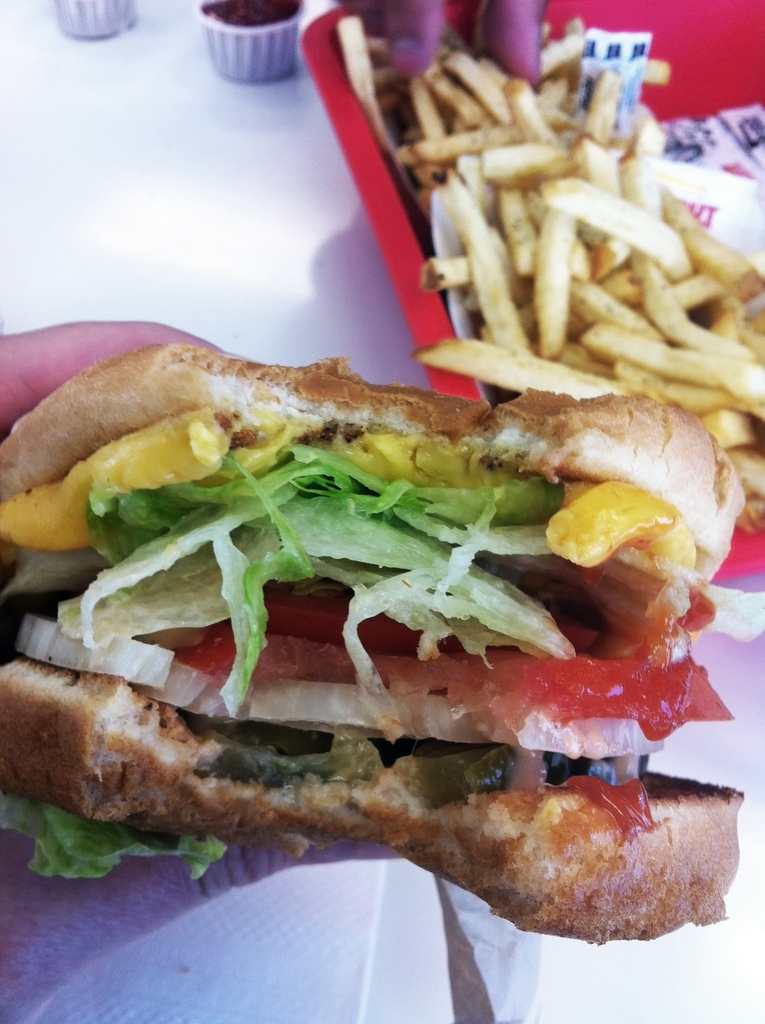French fries: (342, 36, 757, 447)
